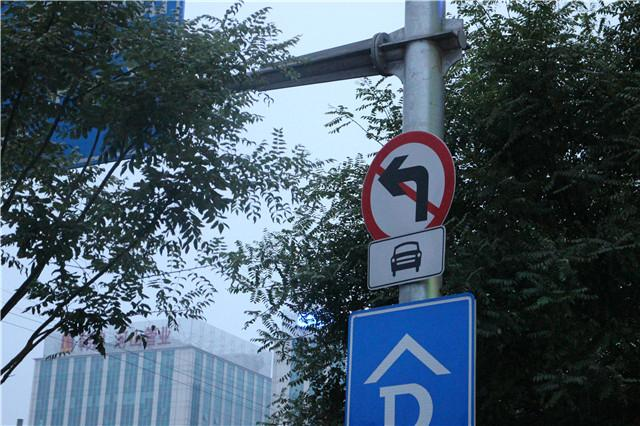not_turn_left: (361, 128, 453, 238)
